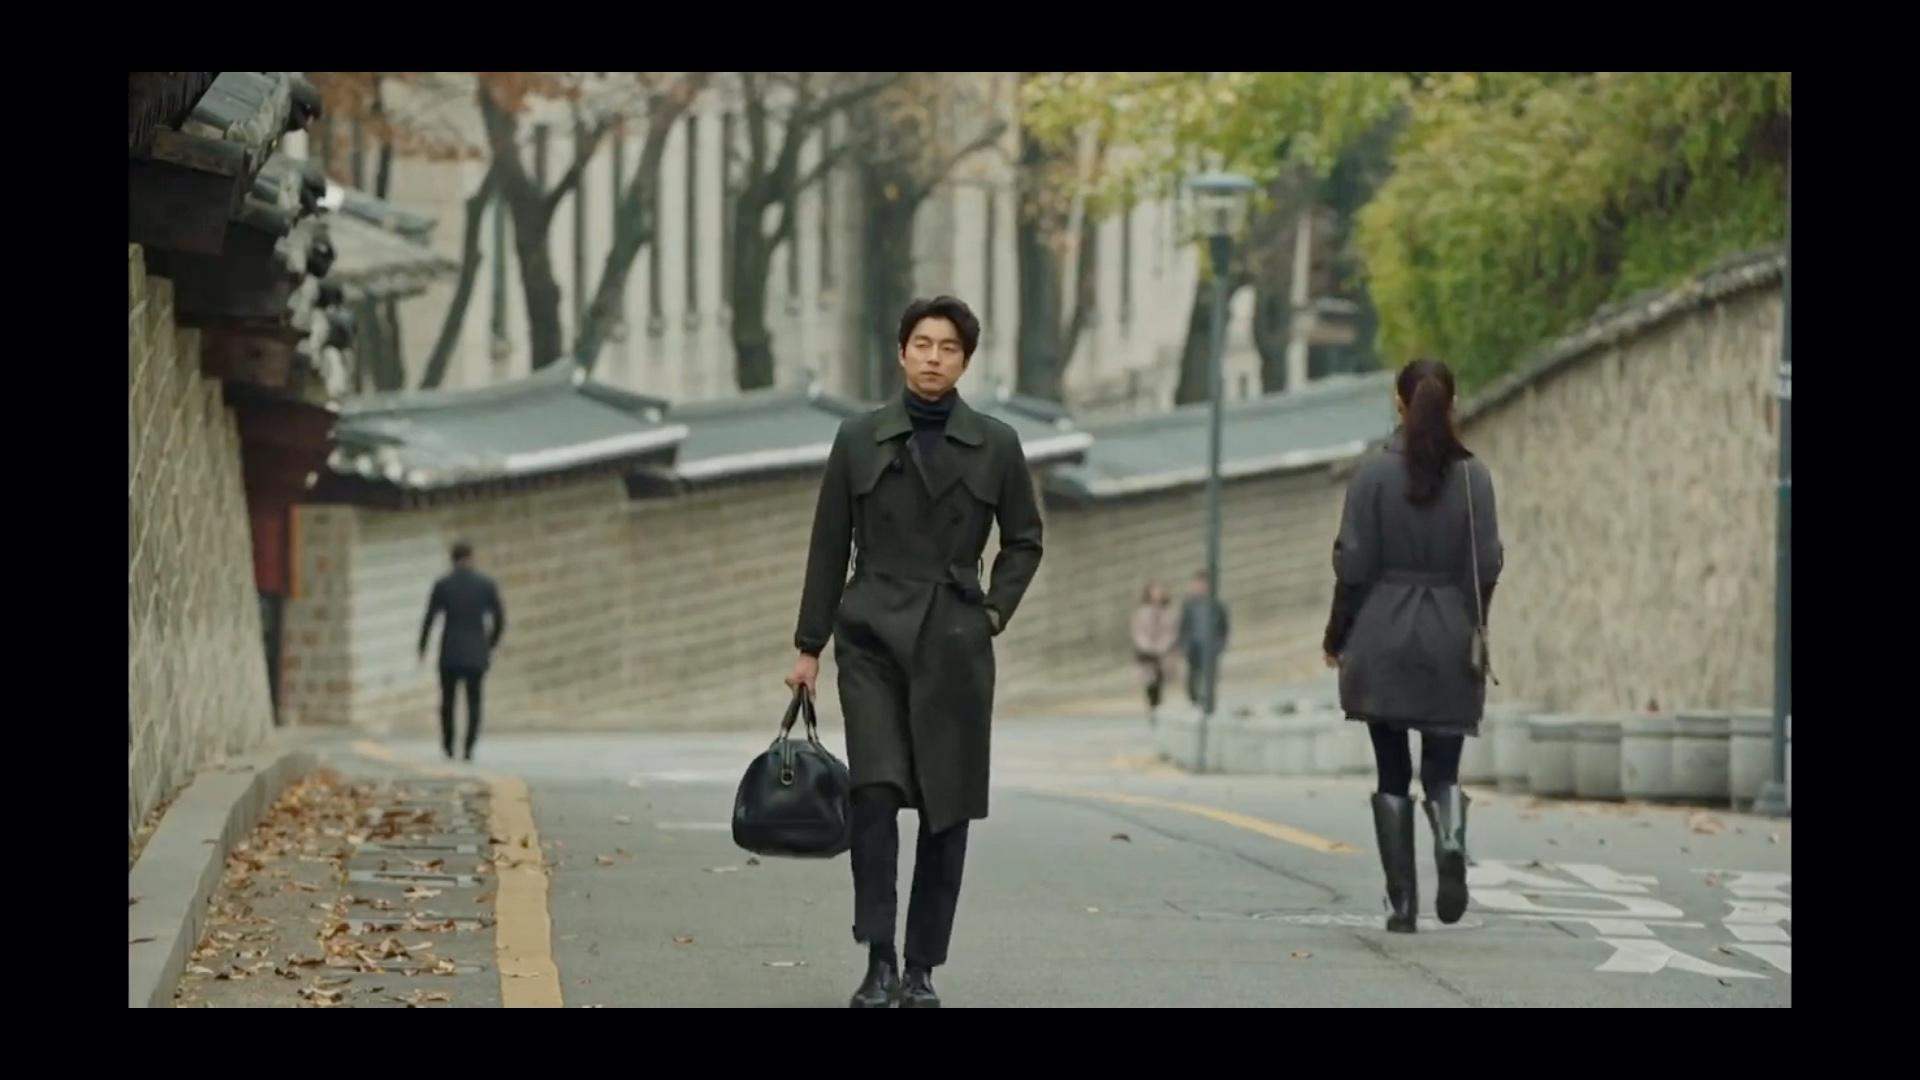up: (771, 289, 1060, 1006), (1309, 345, 1518, 949)
